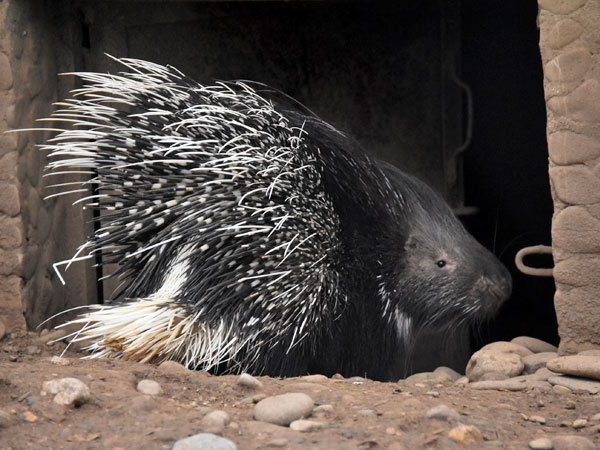porcupine: (35, 70, 540, 389)
